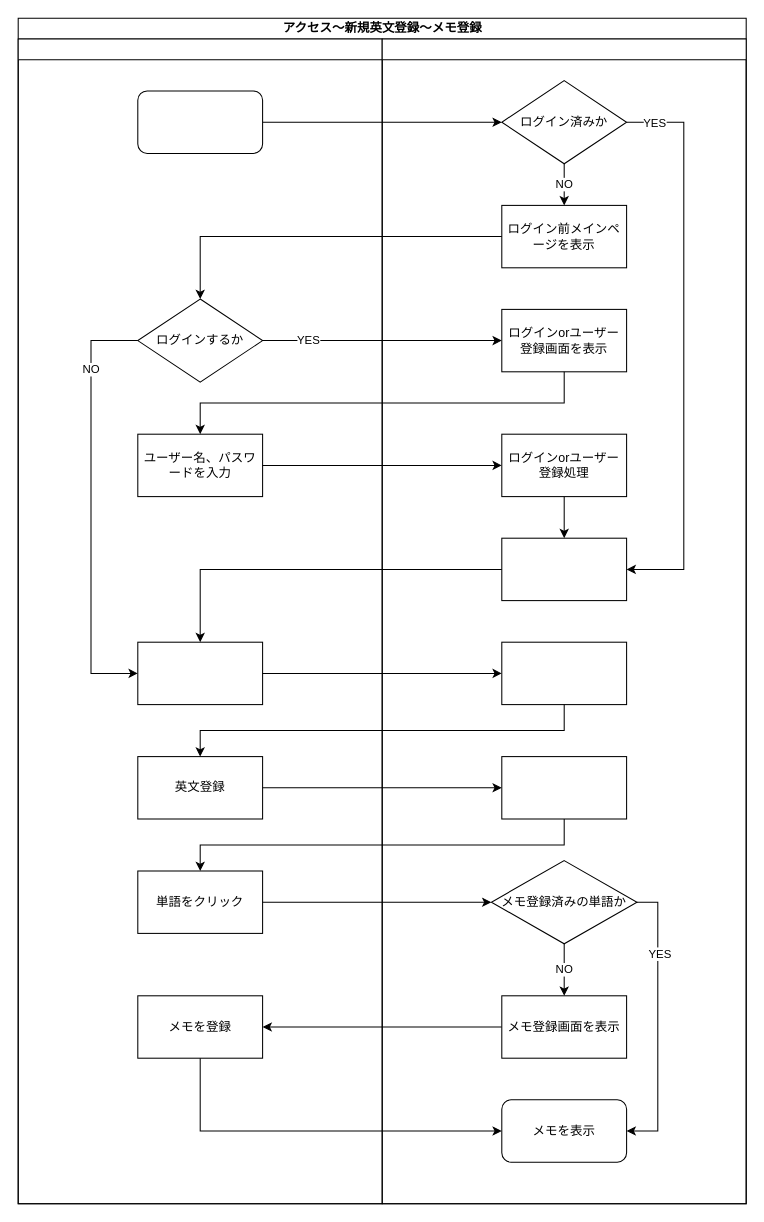
Some shapes in this 764 by 1222 pixel diagram are drawn without their labels. Here are the shapes that lost their labels. From the top down, the box of each, then its label:
(137, 90, 263, 153): サイトアクセス
(501, 537, 627, 601): ログイン後メインページを表示
(17, 38, 382, 1204): USER
(381, 38, 746, 1204): APPLICATION
(137, 641, 263, 705): メニューから英文登録を選択
(501, 641, 627, 705): 英文登録画面を表示
(501, 756, 627, 819): 登録した英文画面を表示
